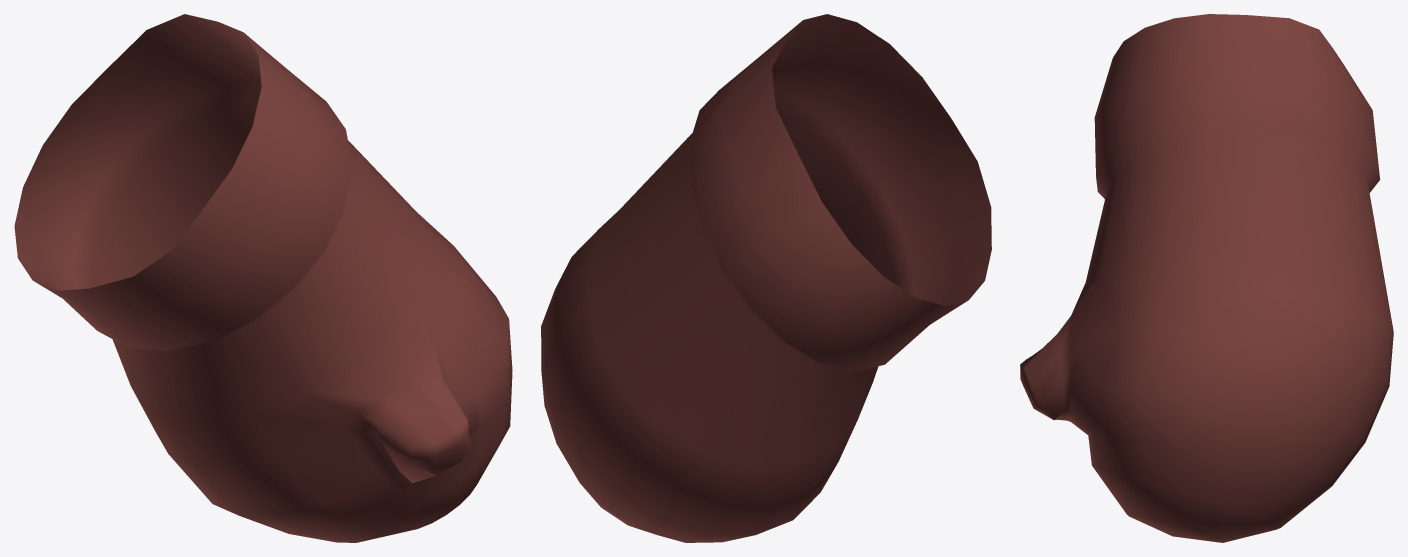
File: Left_Boxing_Glove.fbx
The picture shows the model from 3 angles, left to right: view 1: azimuth 30°, elevation 25°; view 2: azimuth 150°, elevation 25°; view 3: azimuth 270°, elevation 25°; orthographic projection. The views are drawn at different scales.
Parts seen in each view (by area): view 1: Left_Glove; view 2: Left_Glove; view 3: Left_Glove.
Boxes of the visible parts, <box> form: Left_Glove: <box>14,14,512,542</box>; Left_Glove: <box>541,14,991,542</box>; Left_Glove: <box>1020,14,1393,542</box>.
Size of the model in its own units: 0.1692 by 0.1979 by 0.143.
